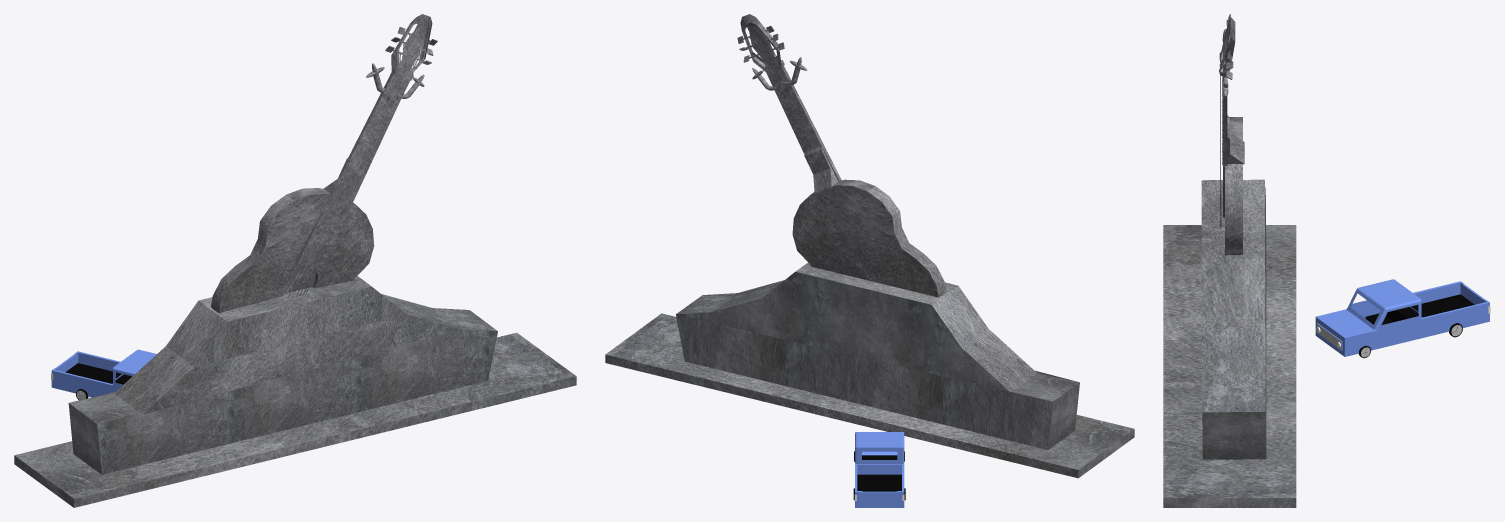
The model's file is Gravestone.fbx.
3 views of the same model, side by side, from view 1: azimuth 30°, elevation 25°; view 2: azimuth 150°, elevation 25°; view 3: azimuth 270°, elevation 25° (orthographic). The views are drawn at different scales.
Visible parts, largest first — view 1: Gravestone:Combined_Graved, Gravestone:asgore_toy_truck:truck1; view 2: Gravestone:Combined_Graved, Gravestone:asgore_toy_truck:truck1; view 3: Gravestone:Combined_Graved, Gravestone:asgore_toy_truck:truck1.
Part boxes in pixels (x1=…): Gravestone:Combined_Graved: x1=14, y1=14, x2=576, y2=507; Gravestone:asgore_toy_truck:truck1: x1=51, y1=349, x2=156, y2=400; Gravestone:Combined_Graved: x1=605, y1=14, x2=1134, y2=478; Gravestone:asgore_toy_truck:truck1: x1=853, y1=432, x2=905, y2=507; Gravestone:Combined_Graved: x1=1163, y1=14, x2=1296, y2=507; Gravestone:asgore_toy_truck:truck1: x1=1315, y1=279, x2=1490, y2=358.
Size of the model in its own units: 7.07 by 5.24 by 3.58.
Materials: 7 (1 with a texture image).
